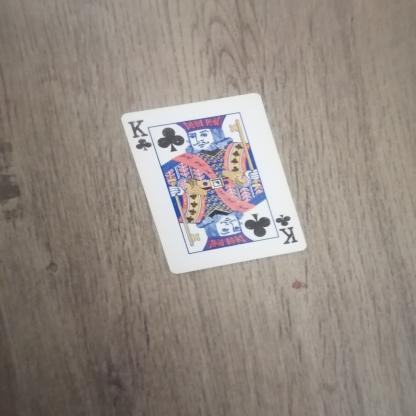KC: (262, 205, 308, 247), (121, 118, 157, 156)
